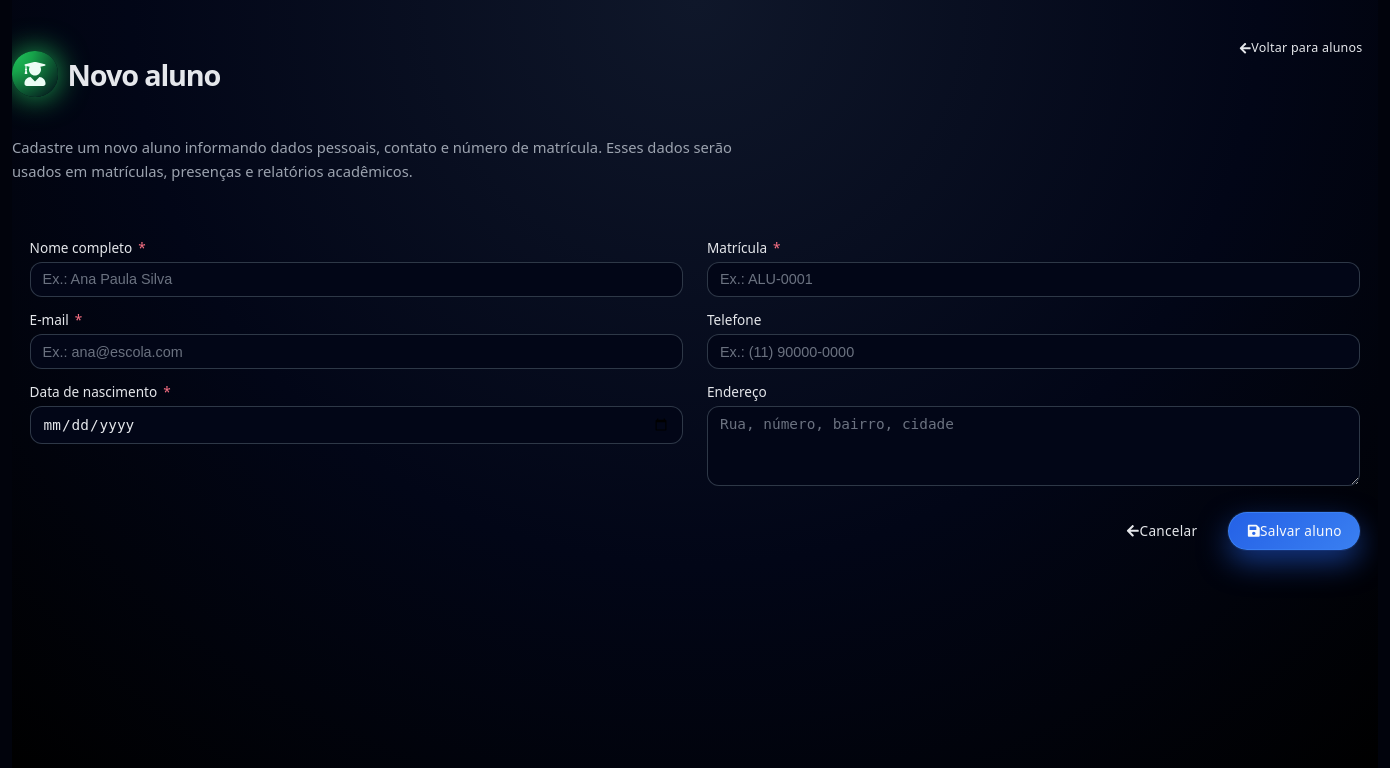
Test: StudentCreatePage (dashboard) › mostra erros de validação quando campos obrigatórios estão vazios
Click the button "Salvar aluno" at (1294, 531), box [1228, 512, 1360, 550]
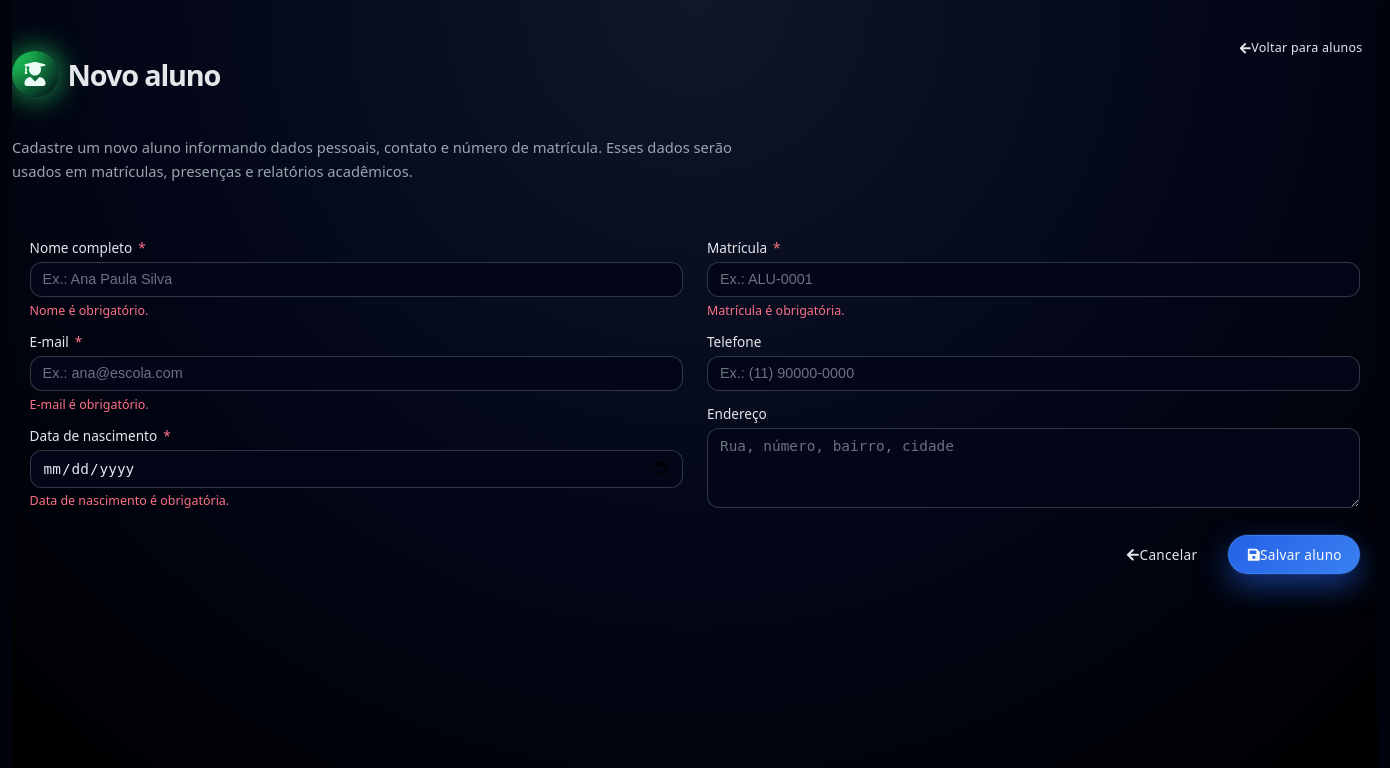
Expected: the text "Nome é obrigatório." is shown, [30, 302, 148, 319]
Expected: the text "E-mail é obrigatório." is shown, [30, 396, 149, 413]
Expected: the text "Data de nascimento é obrigatória." is shown, [30, 492, 229, 509]
